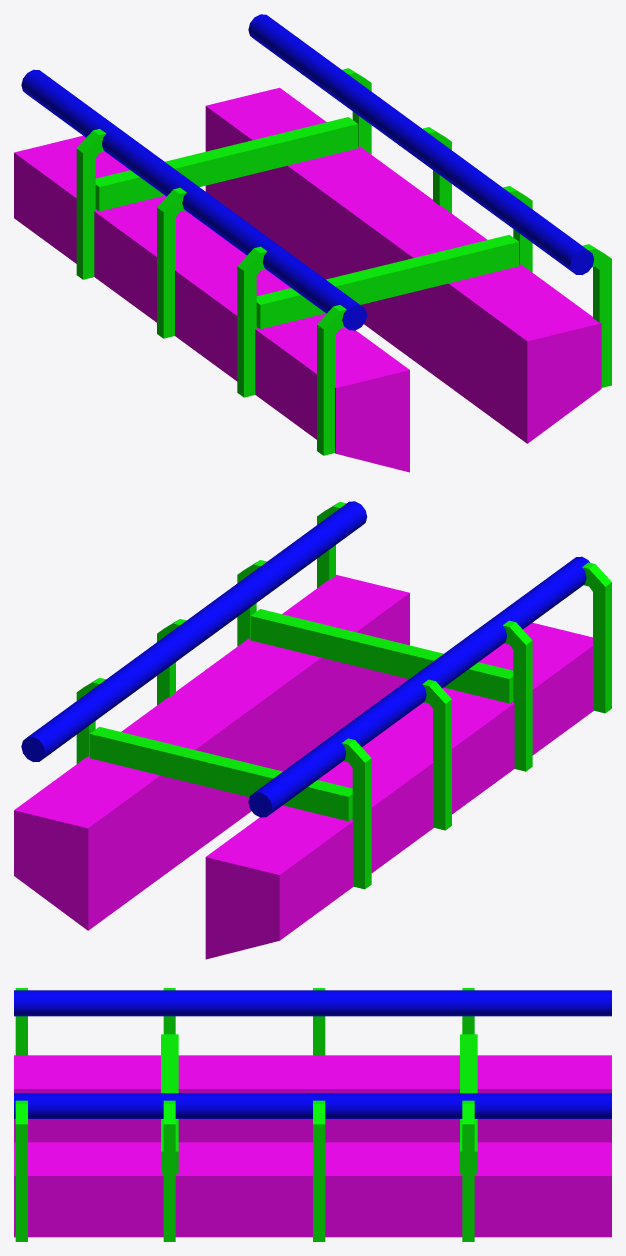
The model's file is track_tilter_MOCKUP.fbx.
3 views of the same model, one above another, from view 1: azimuth 30°, elevation 25°; view 2: azimuth 150°, elevation 25°; view 3: azimuth 270°, elevation 25° (orthographic). The views are drawn at different scales.
Parts seen in each view (by area): view 1: track_tilter_MOCKUP; view 2: track_tilter_MOCKUP; view 3: track_tilter_MOCKUP.
Boxes of the visible parts, left/top/right/bottom form: track_tilter_MOCKUP: left=14, top=14, right=611, bottom=472; track_tilter_MOCKUP: left=14, top=501, right=611, bottom=959; track_tilter_MOCKUP: left=14, top=988, right=611, bottom=1241.
Size of the model in its own units: 0.5174 by 0.3095 by 1.
